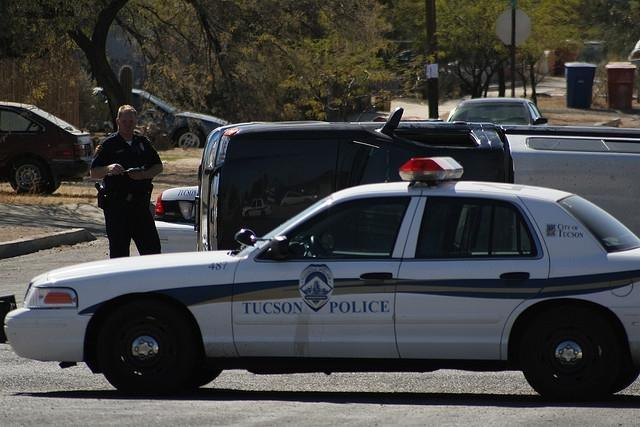car: (3, 180, 639, 410), (0, 100, 95, 197), (95, 87, 232, 148), (448, 100, 546, 121), (155, 187, 199, 224)
truck: (197, 107, 640, 250)
